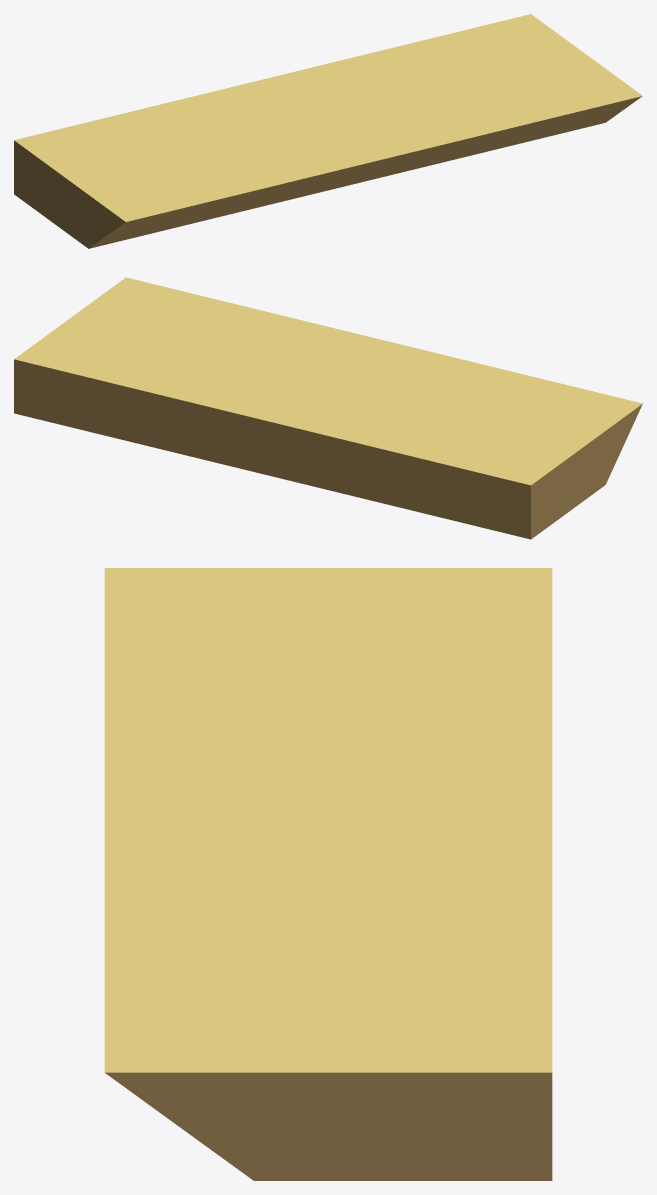
Rendered from Terrain_Modular_Tiles_Sand_Dirt_Cliff_Edge_Straight_Outer_01.fbx.
The picture shows the model from 3 angles, top to bottom: view 1: azimuth 30°, elevation 25°; view 2: azimuth 150°, elevation 25°; view 3: azimuth 270°, elevation 25°; orthographic projection. The views are drawn at different scales.
Visible parts, largest first — view 1: Terrain_Modular_Tiles_Sand_Dirt_Cliff_Edge_Straight_Outer_01; view 2: Terrain_Modular_Tiles_Sand_Dirt_Cliff_Edge_Straight_Outer_01; view 3: Terrain_Modular_Tiles_Sand_Dirt_Cliff_Edge_Straight_Outer_01.
Boxes of the visible parts, box(x1,y1,x2,y2) form: Terrain_Modular_Tiles_Sand_Dirt_Cliff_Edge_Straight_Outer_01: box(14, 14, 642, 248); Terrain_Modular_Tiles_Sand_Dirt_Cliff_Edge_Straight_Outer_01: box(14, 277, 642, 539); Terrain_Modular_Tiles_Sand_Dirt_Cliff_Edge_Straight_Outer_01: box(104, 568, 552, 1180).
Size of the model in its own units: 118 by 11.81 by 44.29.
